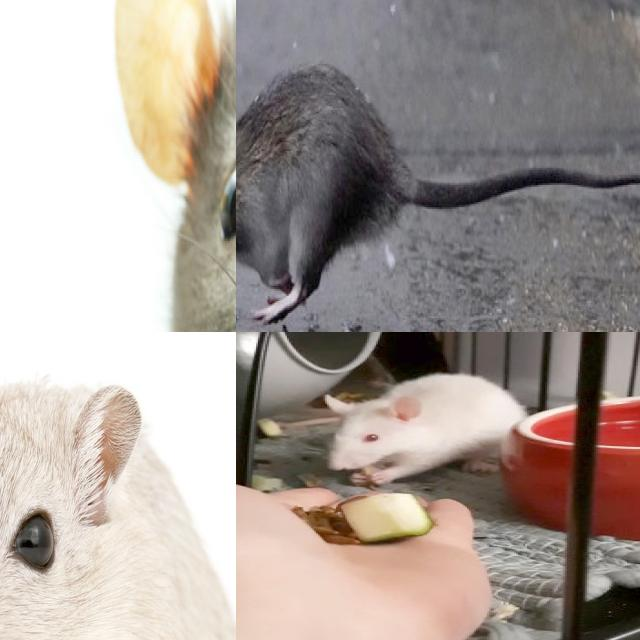rat: (0, 354, 236, 640), (115, 0, 236, 332), (236, 64, 407, 267), (312, 368, 526, 488)
